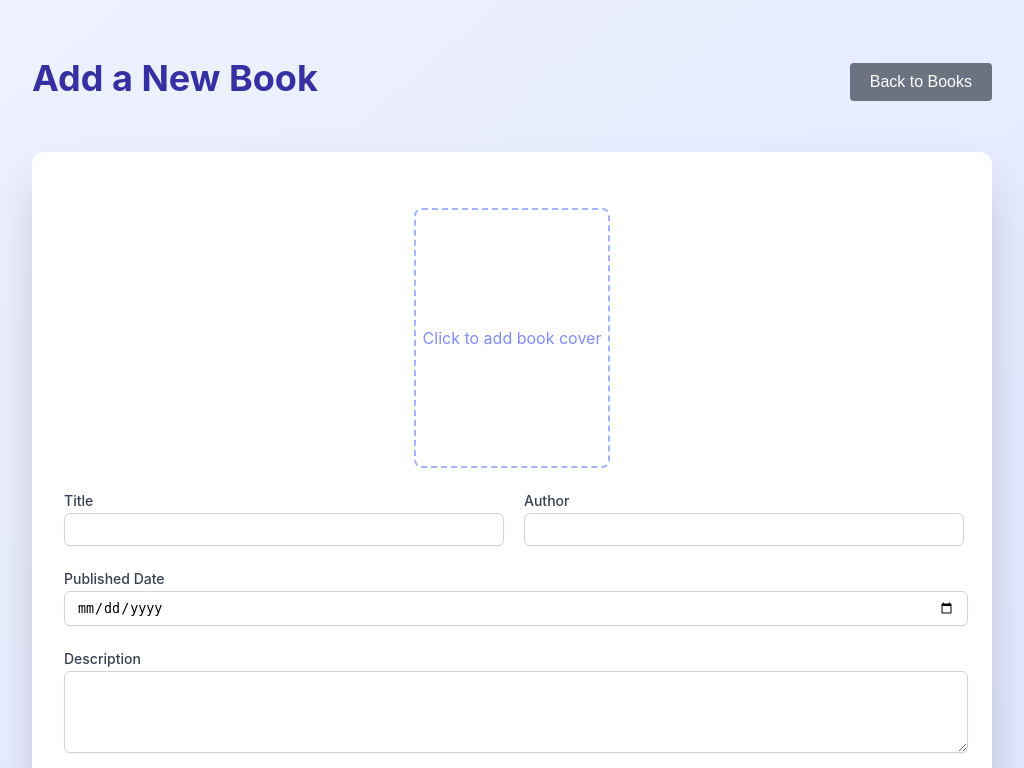
AddBook Component › handles form submission successfully
// Fill out all form fields
In the field labelled "Title": (284, 530) top-left (64, 513), bottom-right (504, 546), type "Test Book"
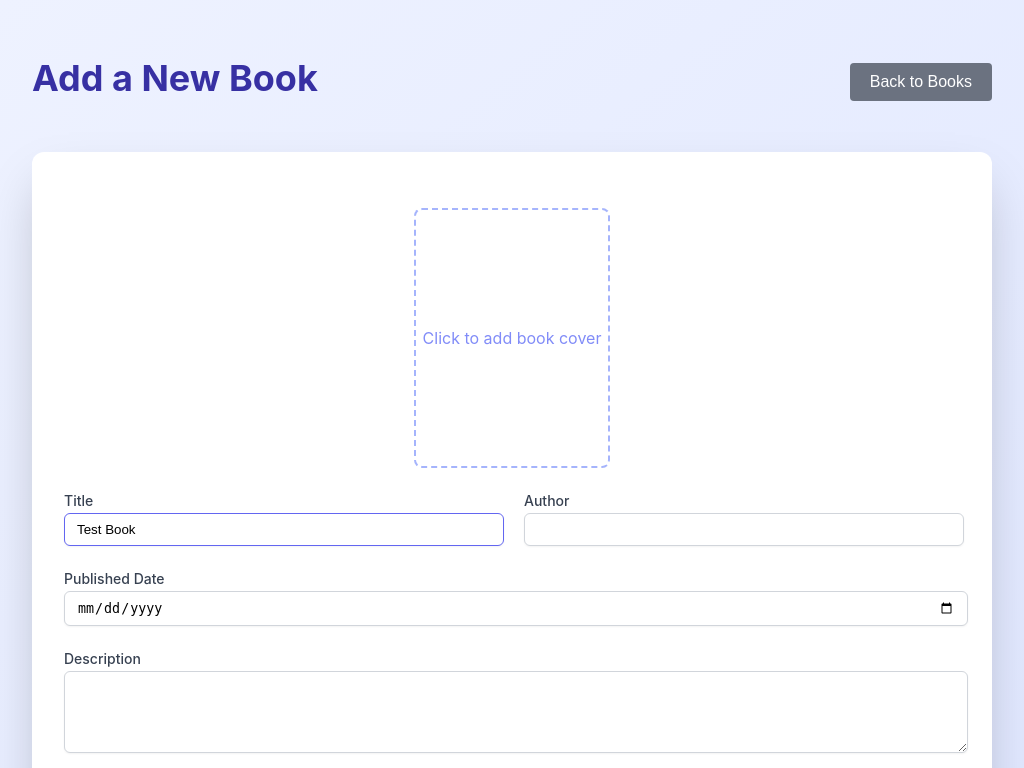
In the field labelled "Author": (744, 530) top-left (524, 513), bottom-right (964, 546), type "Test Author"
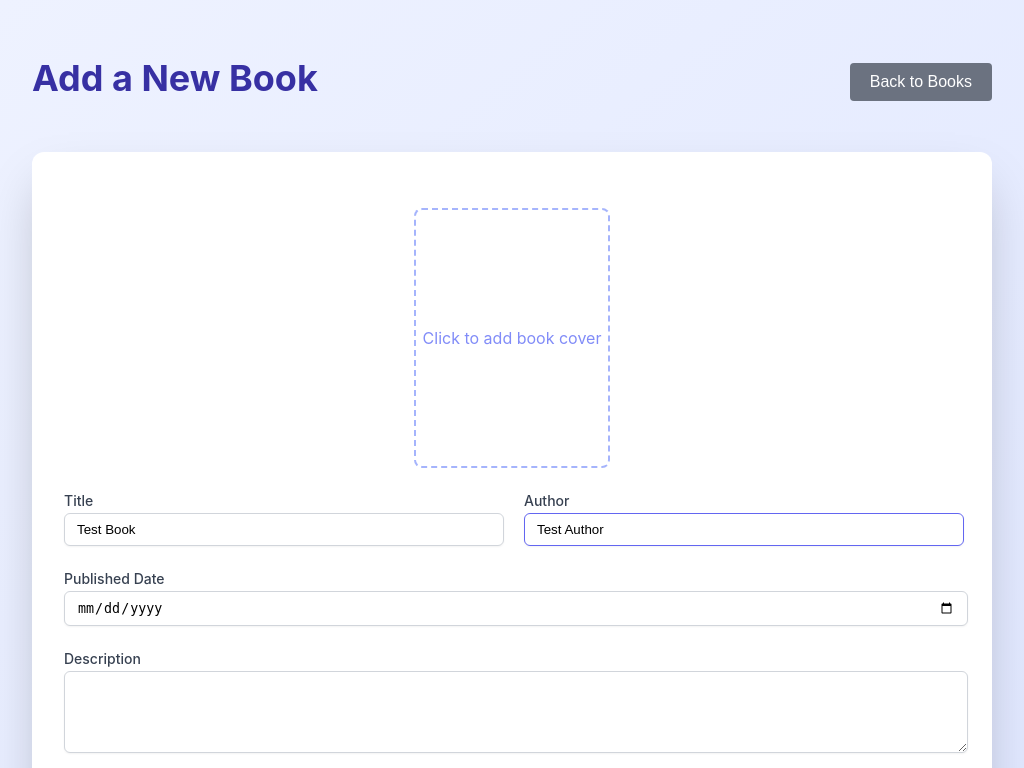
In the date field labelled "Published Date": (516, 609) top-left (64, 591), bottom-right (968, 626), type "2024-01-01"
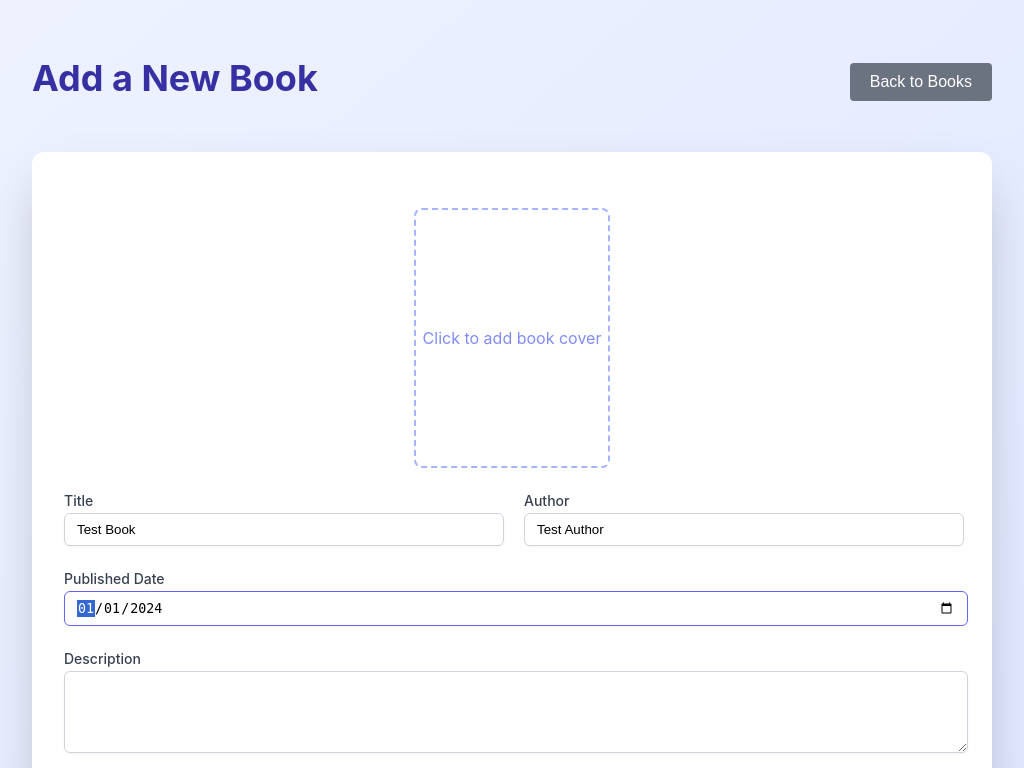
In the text box labelled "Description": (516, 712) top-left (64, 671), bottom-right (968, 753), type "This is a test description"
(page scrolled)
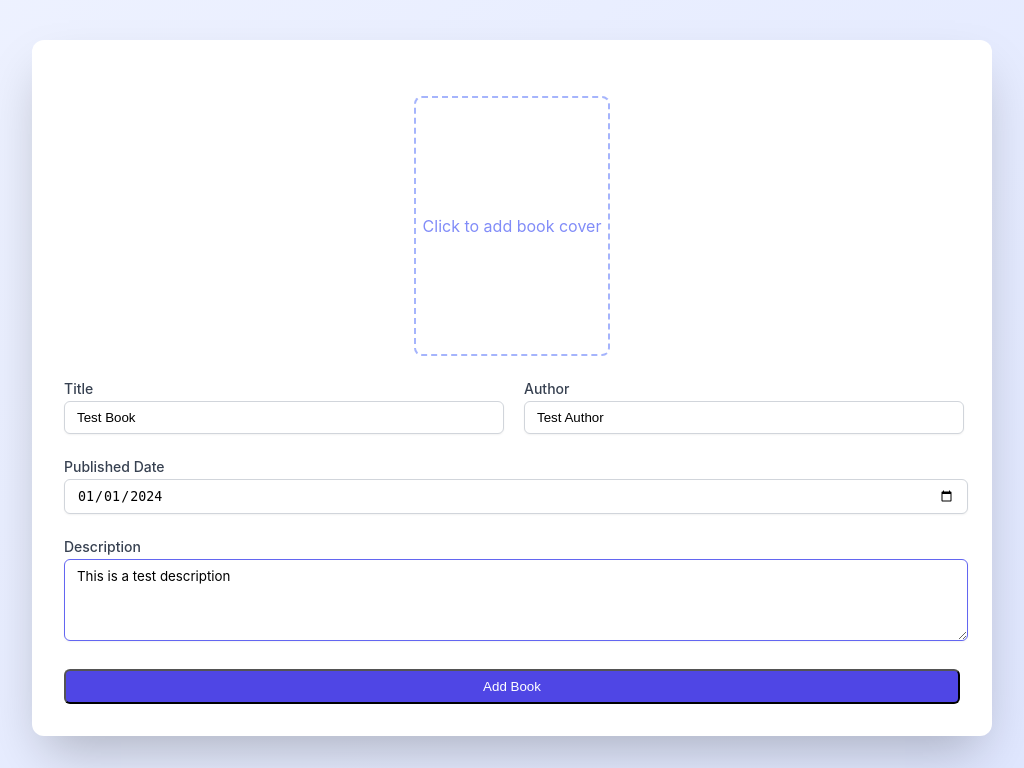
// Submit the form
Click the button "Add Book": (512, 687) top-left (64, 669), bottom-right (960, 704)
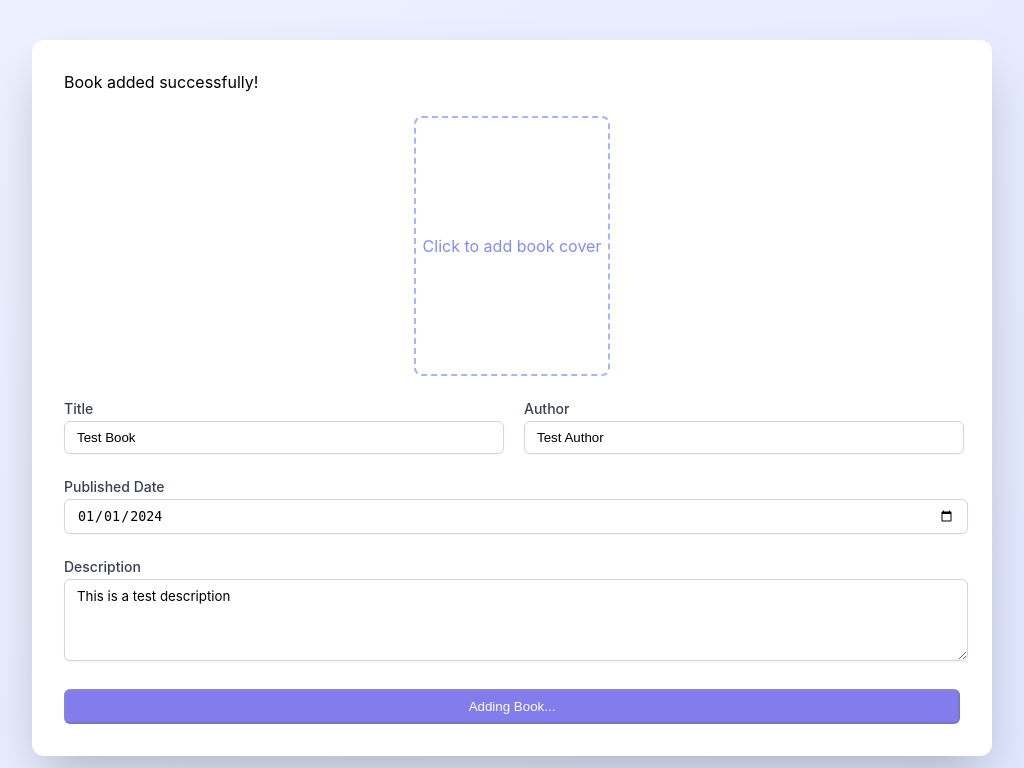
Now the text "Book added successfully!" is shown, box top-left (64, 72), bottom-right (258, 92)
